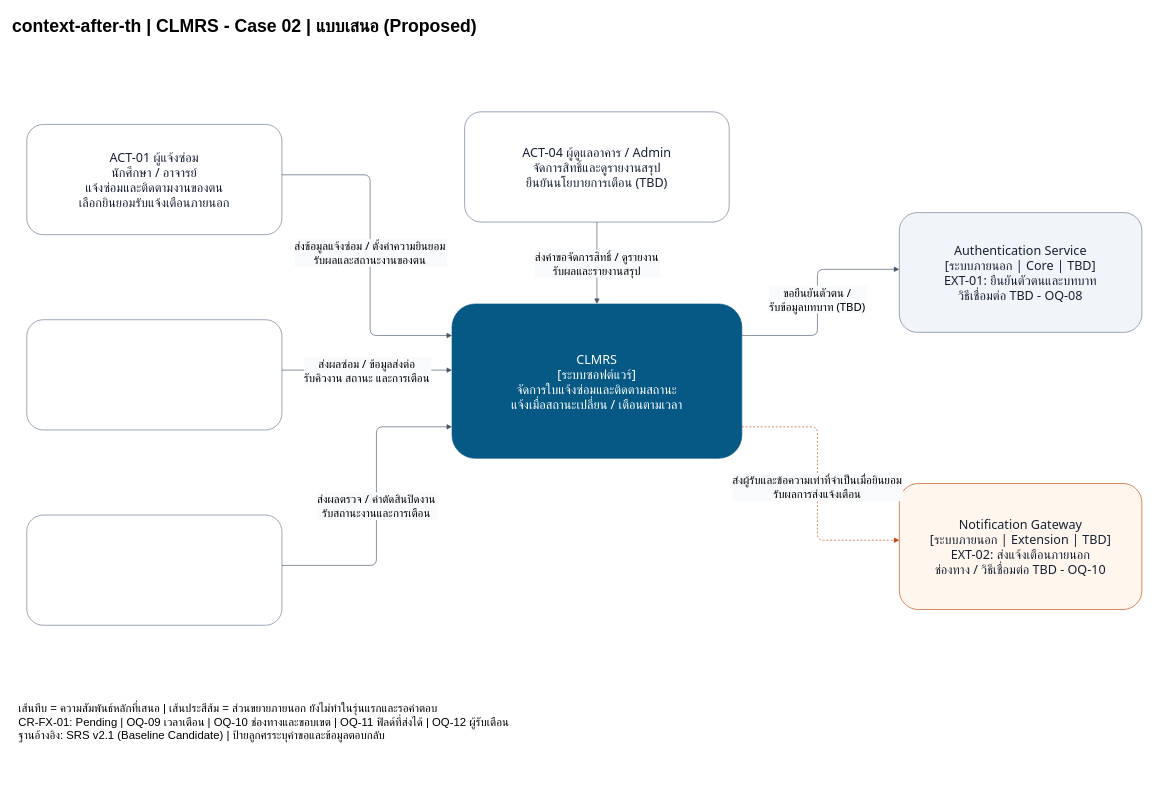
This 1168x790 diagram has some shape labels left out. Each missing label, with the centre of its shape:
"ACT-02 เจ้าหน้าที่เทคนิค รับงานและดำเนินการซ่อม บันทึกผลซ่อม / ส่งต่องาน" belongs at point (154, 374).
"ACT-03 ผู้ยืนยันการปิดงาน ตรวจสอบผลการซ่อม อนุมัติปิดงาน / ส่งกลับให้แก้ไข" belongs at point (154, 569).
